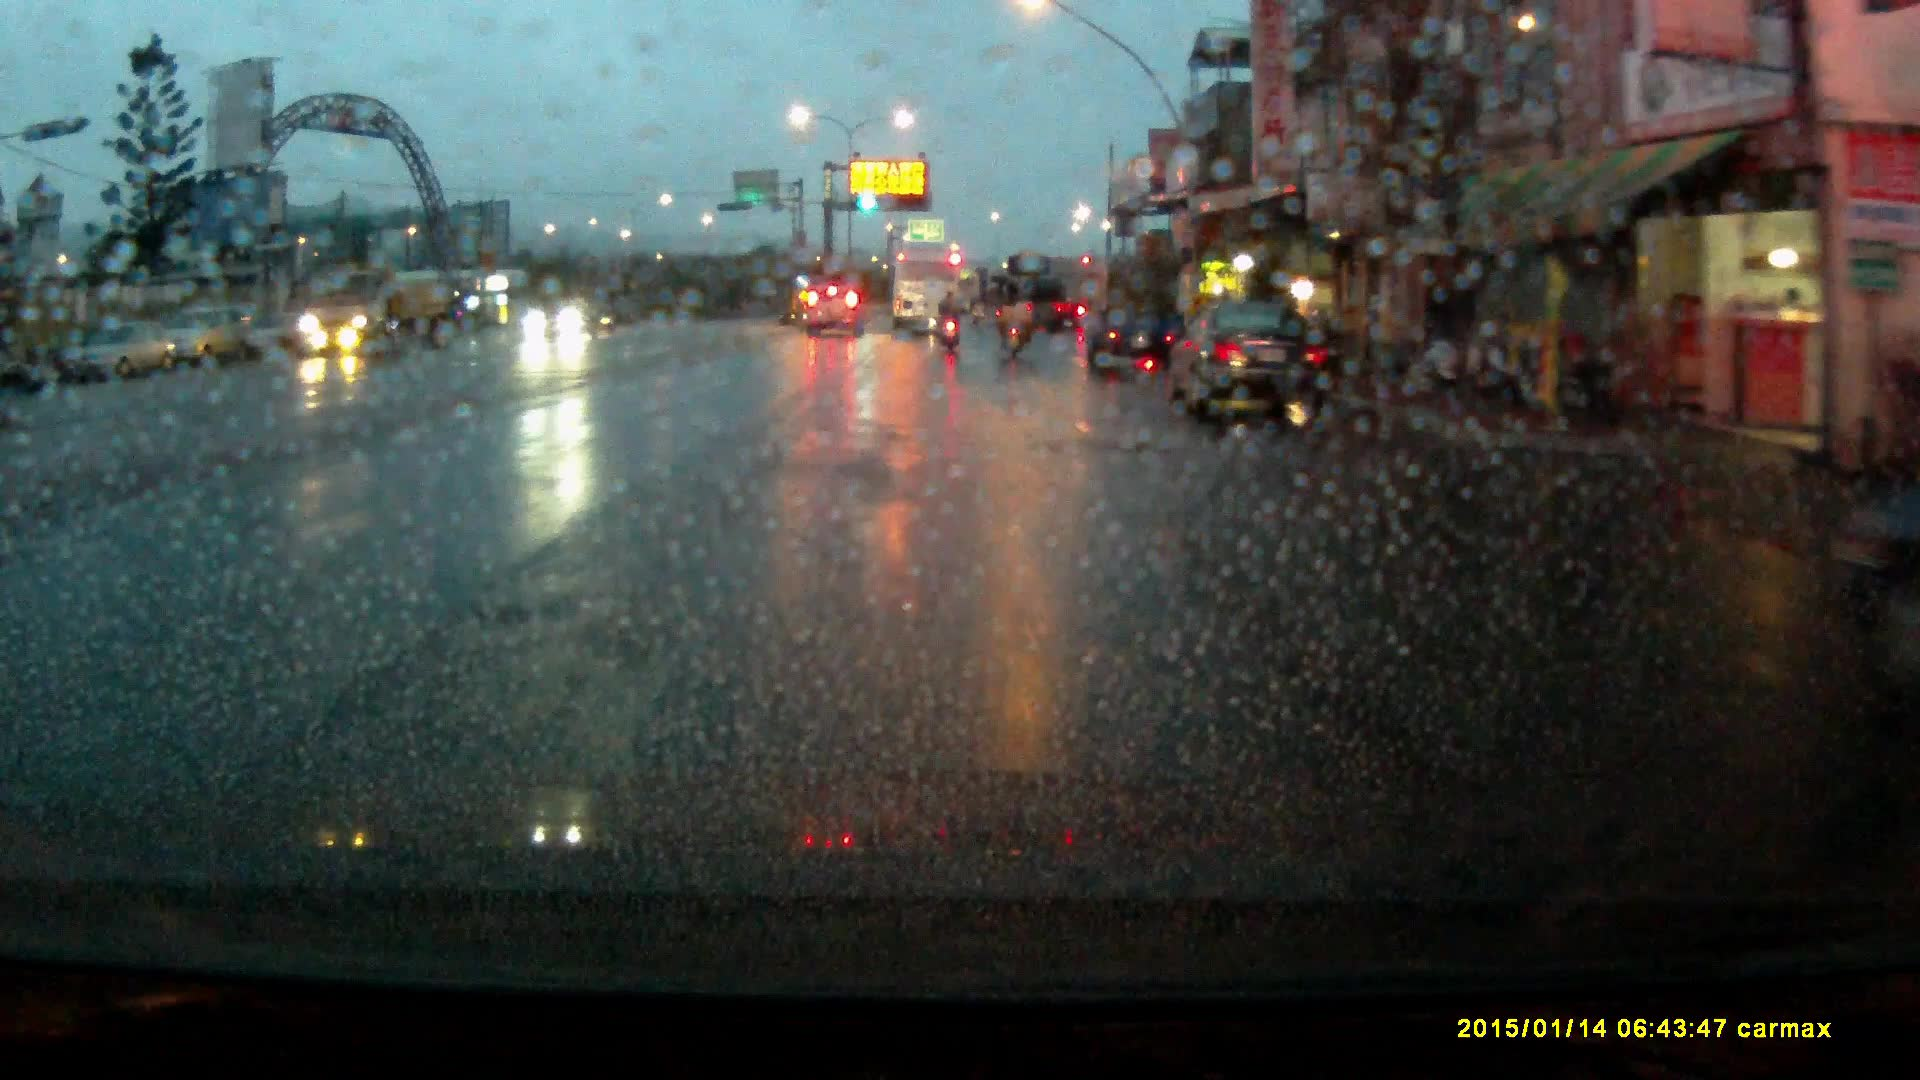rider: (994, 276, 1029, 359), (937, 284, 964, 350)
vehicle: (1165, 303, 1337, 427), (292, 262, 458, 353), (1081, 258, 1184, 367), (891, 248, 959, 336), (155, 303, 248, 366), (1005, 253, 1073, 338), (80, 321, 173, 383), (804, 278, 867, 337), (527, 298, 593, 340)
